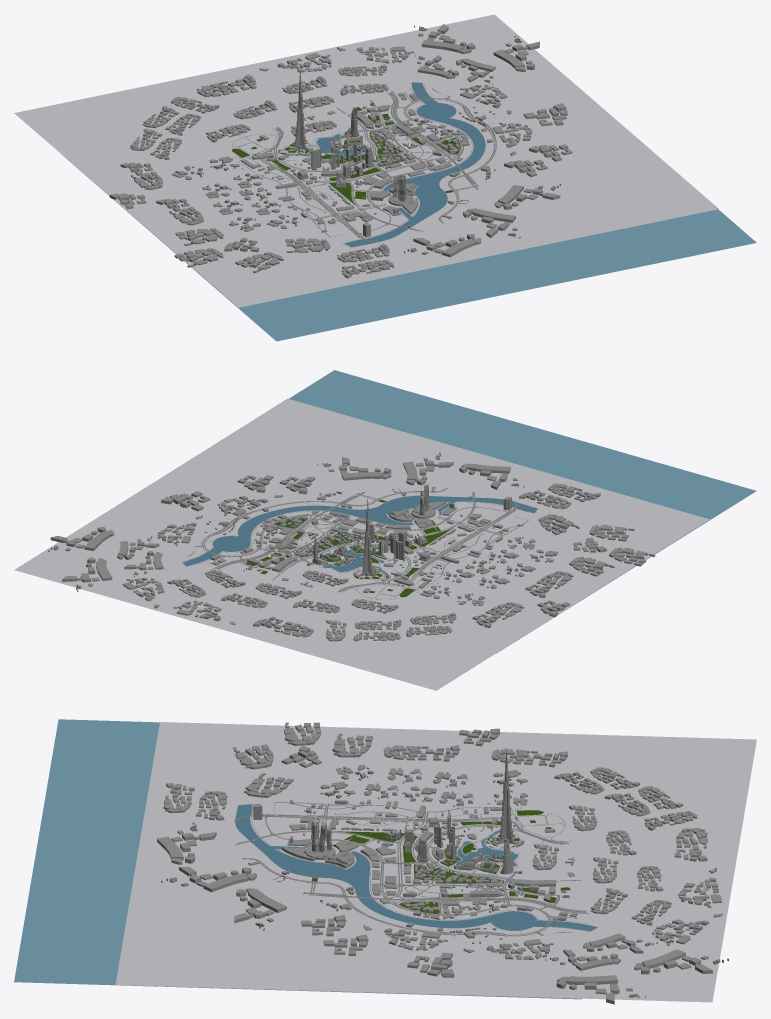
Rendered from 25H_ground.glb.
The picture shows the model from 3 angles, top to bottom: view 1: azimuth 30°, elevation 25°; view 2: azimuth 150°, elevation 25°; view 3: azimuth 270°, elevation 25°; orthographic projection. The views are drawn at different scales.
Parts seen in each view (by area): view 1: Ground, Buildings, Ground.001, Road, River, Green; view 2: Ground, Buildings, Ground.001, Road, River, Green; view 3: Ground, Buildings, Ground.001, Road, River, Green.
Boxes of the visible parts, x1,y1,x2,y2 form: Ground: (14, 14, 718, 307); Buildings: (109, 24, 572, 278); Ground.001: (67, 159, 756, 341); Road: (231, 83, 496, 243); River: (283, 82, 485, 247); Green: (232, 107, 460, 204); Ground: (14, 398, 709, 690); Buildings: (48, 452, 655, 641); Ground.001: (289, 370, 755, 653); Road: (183, 488, 534, 599); River: (182, 495, 537, 576); Green: (245, 499, 452, 597); Ground: (115, 722, 756, 1002); Buildings: (157, 722, 728, 1004); Ground.001: (14, 719, 581, 999); Road: (234, 800, 589, 936); River: (235, 804, 597, 931); Green: (312, 810, 570, 913).
Size of the model in its own units: 925 by 160 by 1016.
6 materials, 2 textured.
